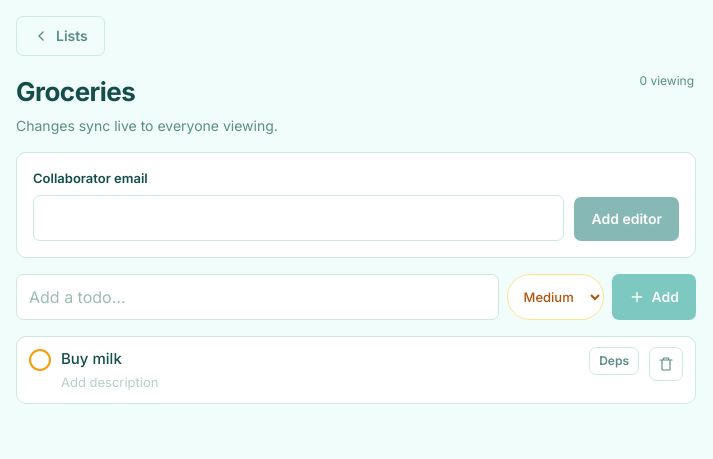
Test: ListDetail › keeps a todo visible after failed deletion and removes it on retry
The width and height of the screenshot is (713, 459).
What coordinates should you click on to do the following:
click the button named "Delete todo"
I would click on:
 (666, 364)
Its box is [649, 346, 683, 380].
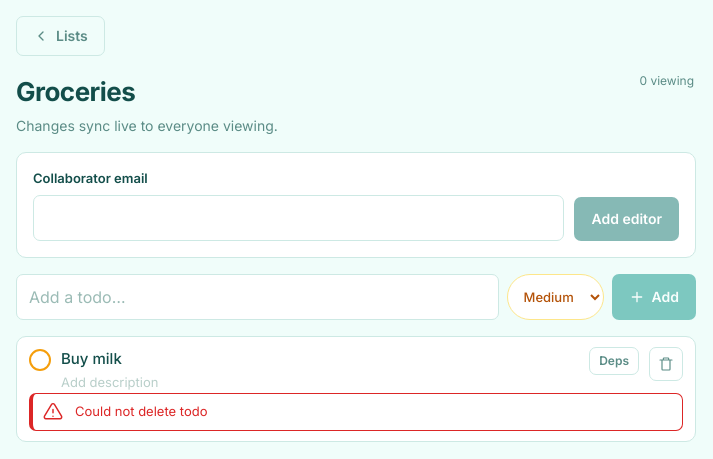
Check: the field showing "Buy milk" is shown, box [61, 346, 579, 371]
Check: the message reads "Could not delete todo", box [75, 403, 207, 419]
What coordinates should you click on to do the following:
click the button named "Delete todo"
I would click on:
 (666, 364)
Its box is [649, 346, 683, 380].
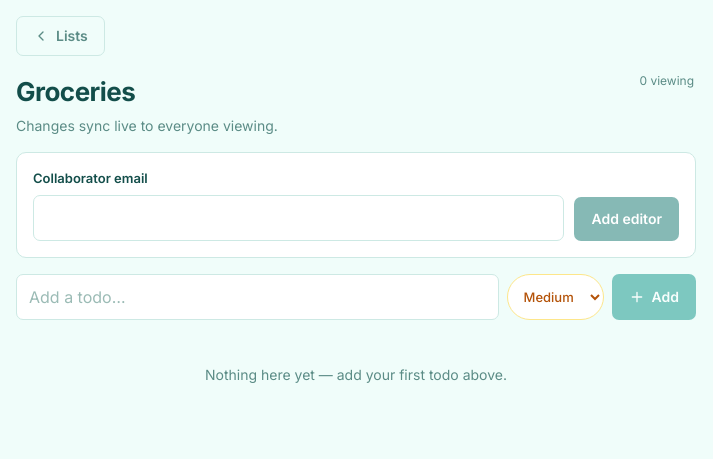
Check: the list item with test id "todo-row-t1" is gone
